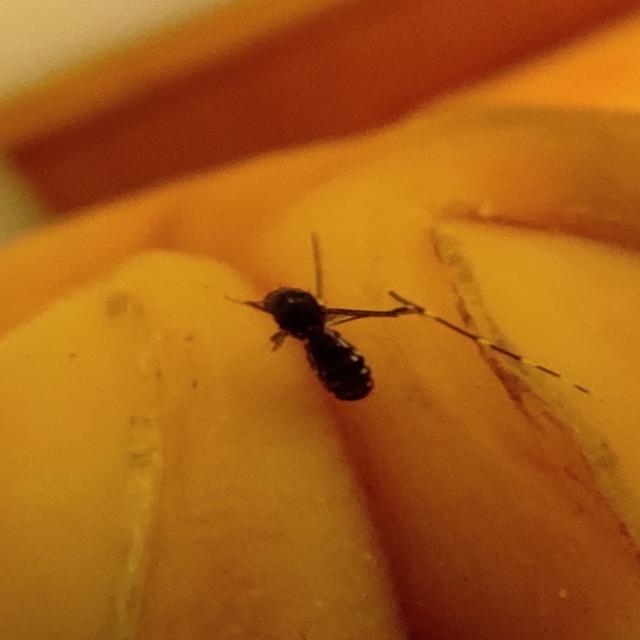albopictus: (213, 232, 580, 419)
